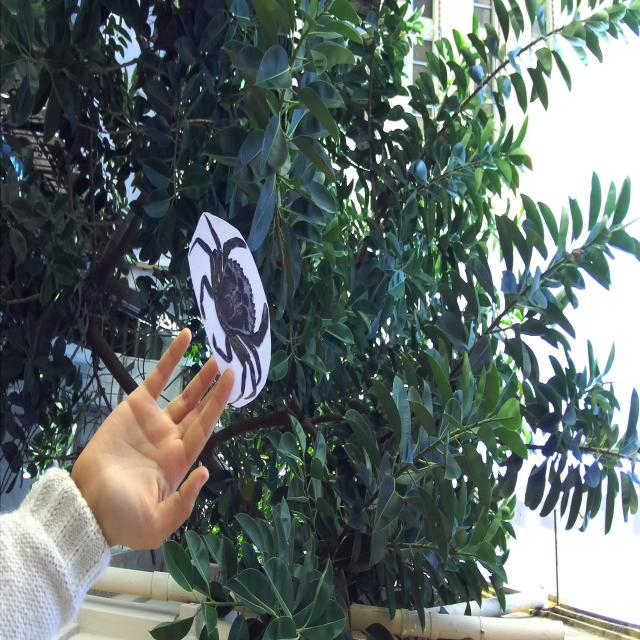European_Green_Crab: (178, 188, 286, 418)
